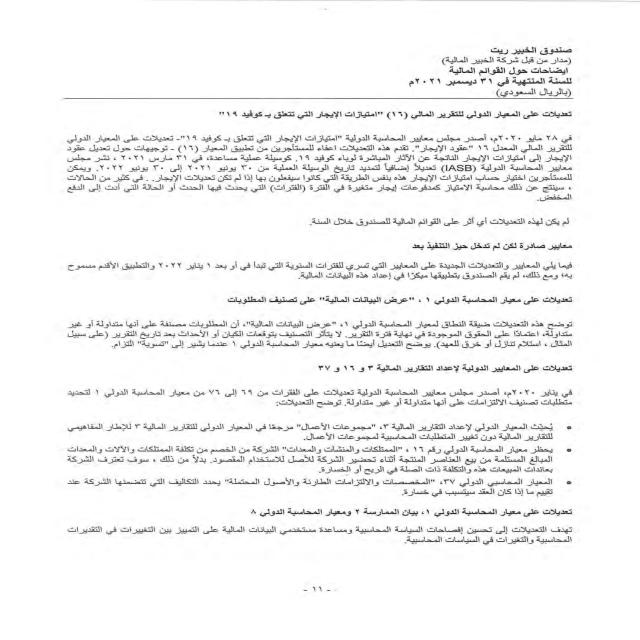notes: (435, 66, 573, 78)
text: (25, 108, 581, 554)
